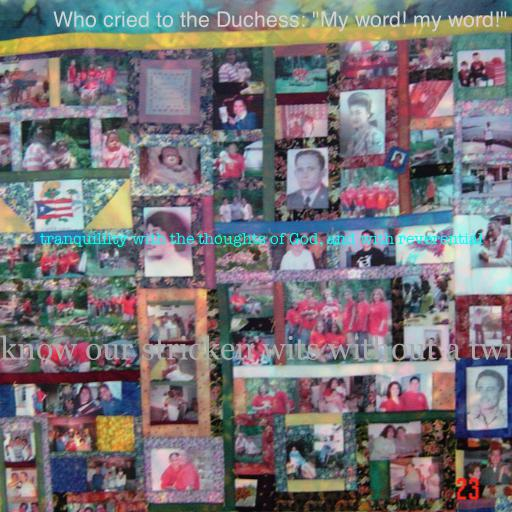American Typewriter: (39, 232, 483, 248)
Georgia: (0, 335, 512, 360)
Impact: (52, 11, 508, 32)
